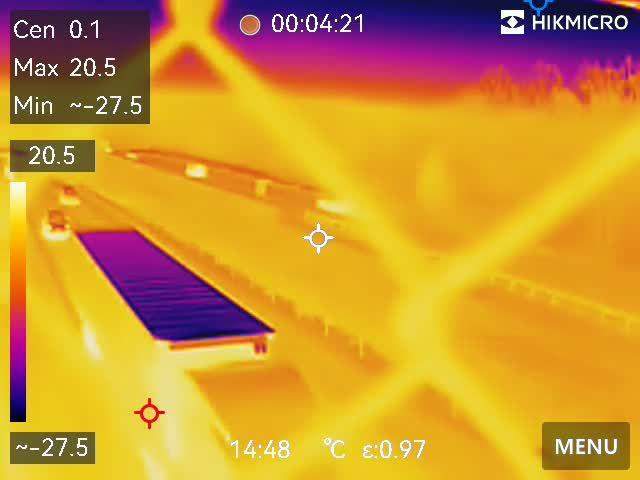heavyTruck: (68, 225, 341, 480)
vehicle: (37, 205, 71, 236), (57, 181, 85, 206)
